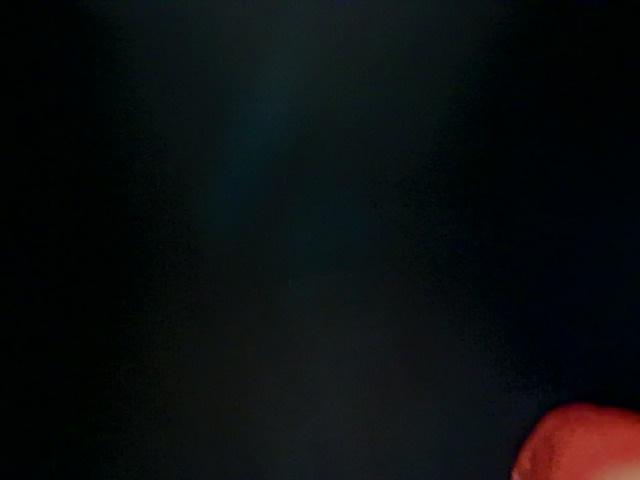KHSLJ: (102, 29, 609, 296)
